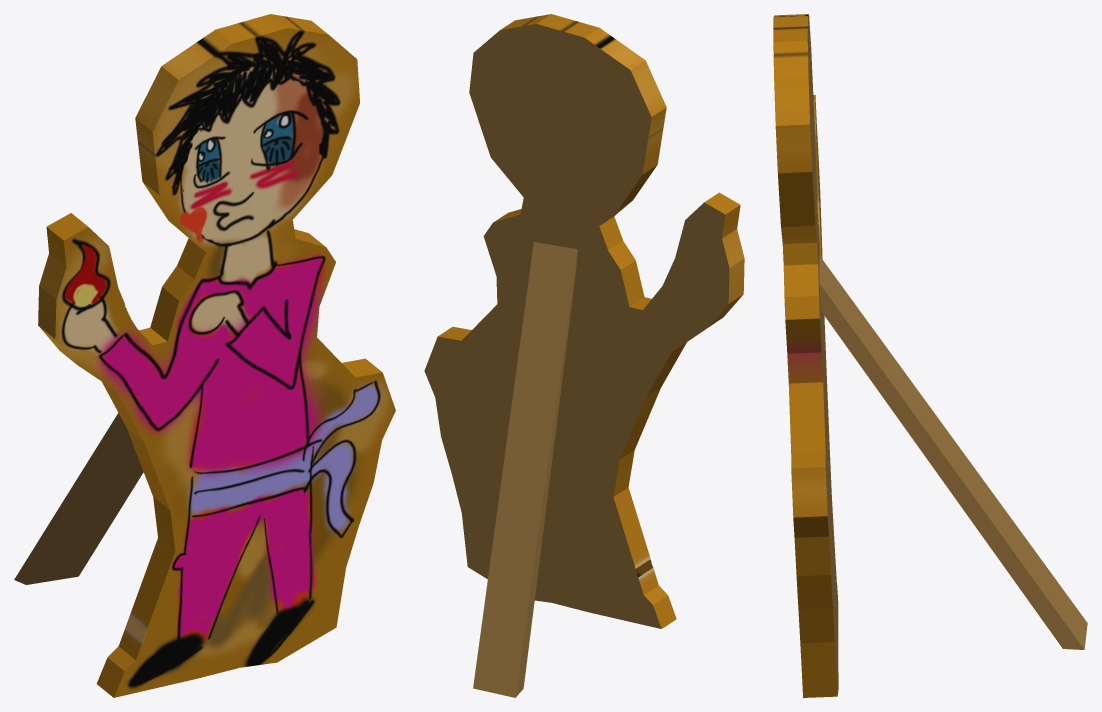
Rendered from Zuko4.fbx.
3 views of the same model, side by side, from view 1: azimuth 30°, elevation 25°; view 2: azimuth 150°, elevation 25°; view 3: azimuth 270°, elevation 25° (orthographic). The views are drawn at different scales.
Visible parts, largest first — view 1: Plane; view 2: Plane; view 3: Plane.
Boxes of the visible parts, <box> form: Plane: <box>14,14,395,697</box>; Plane: <box>424,14,744,697</box>; Plane: <box>773,14,1087,697</box>.
Size of the model in its own units: 86.8 by 156 by 68.76.
2 materials, 1 textured.
